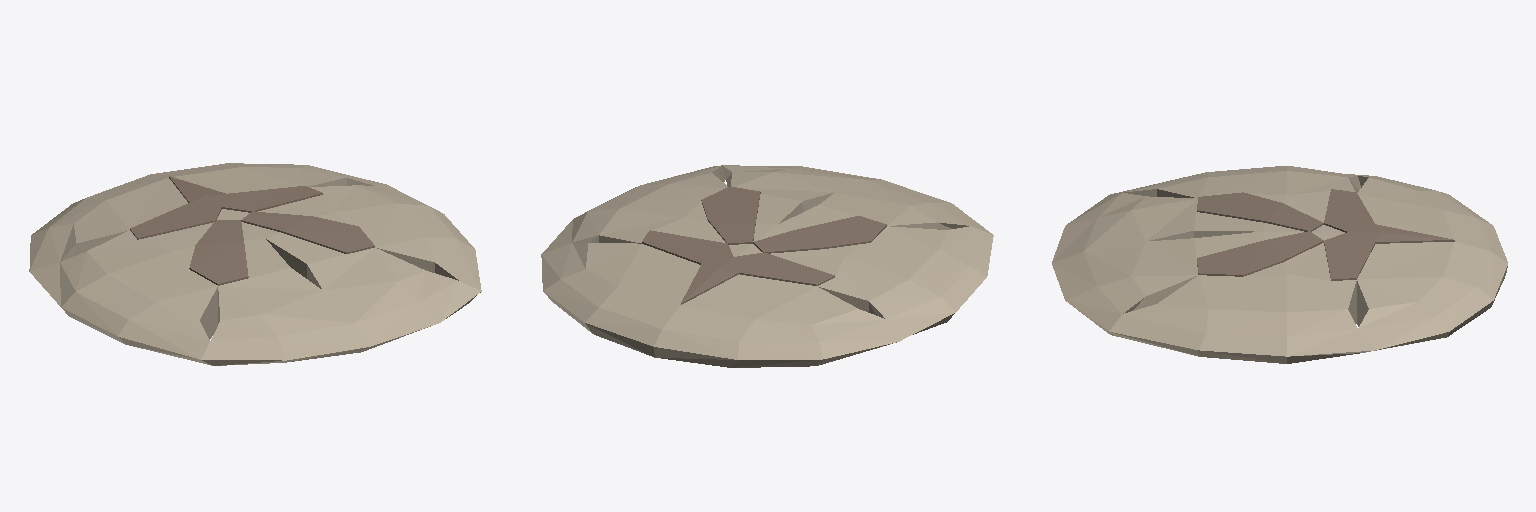
3 renders of one model, left to right at view 1: azimuth 30°, elevation 25°; view 2: azimuth 150°, elevation 25°; view 3: azimuth 270°, elevation 25°, orthographic.
Parts seen in each view (by area): view 1: Geo_SandDollar; view 2: Geo_SandDollar; view 3: Geo_SandDollar.
Boxes of the visible parts, box(x1,y1,x2,y2) form: Geo_SandDollar: box(29, 163, 481, 365); Geo_SandDollar: box(541, 165, 993, 367); Geo_SandDollar: box(1052, 166, 1507, 363).
Size of the model in its own units: 61.8 by 7.84 by 63.83.
Materials: 1 (1 with a texture image).